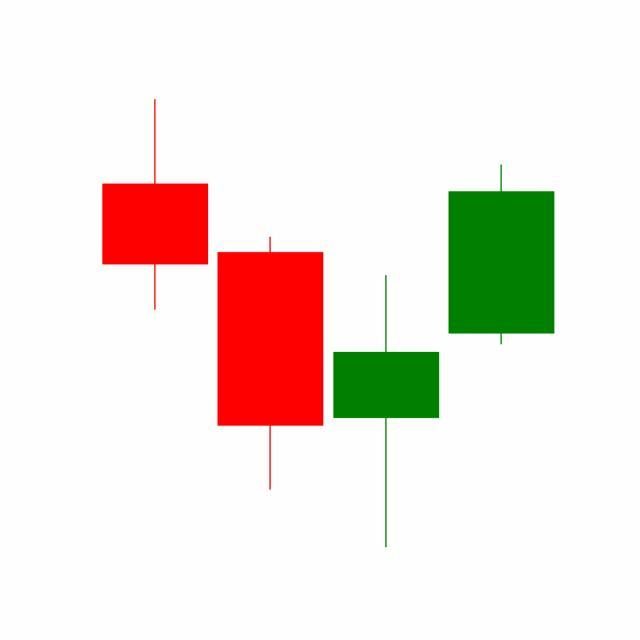Three Inside Up-Down: (211, 160, 555, 548)
